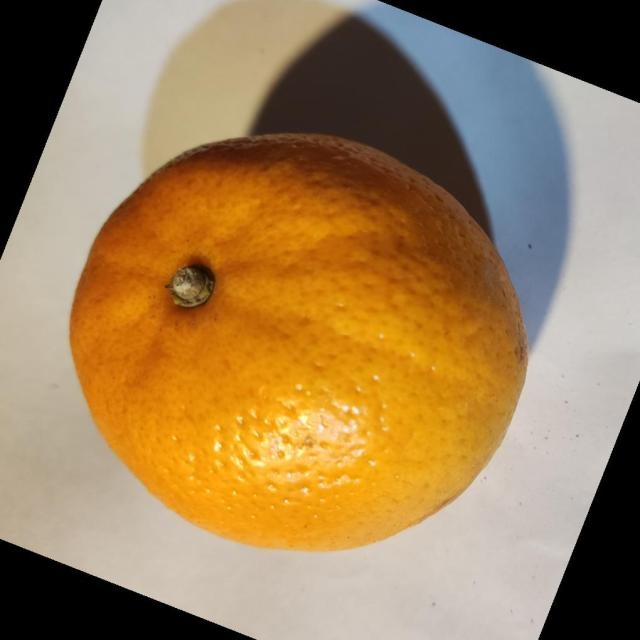agrume: (67, 130, 529, 553)
